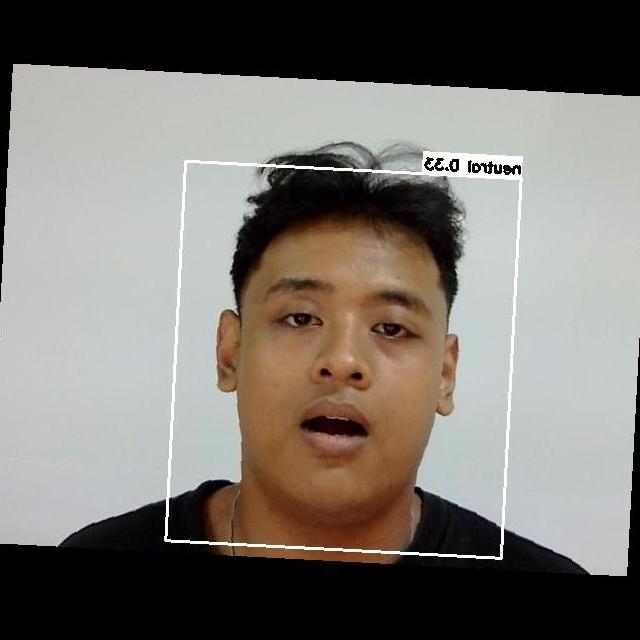Surprised: (234, 255, 455, 512)
